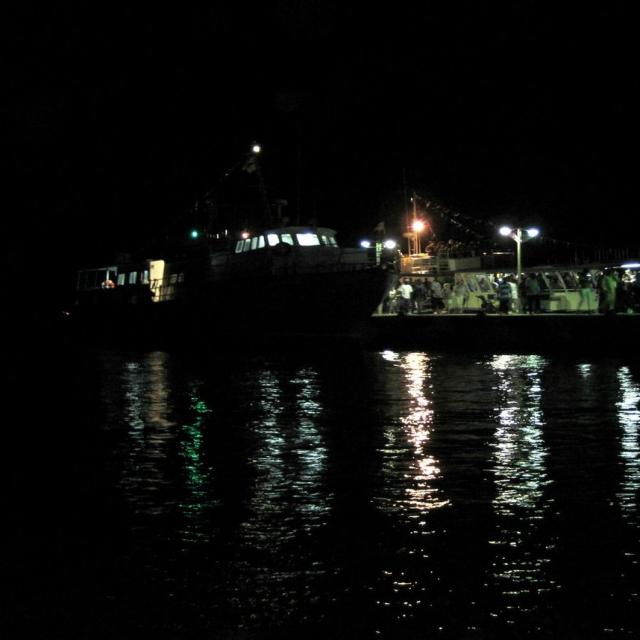Boat: (173, 209, 434, 344), (46, 231, 181, 349)
